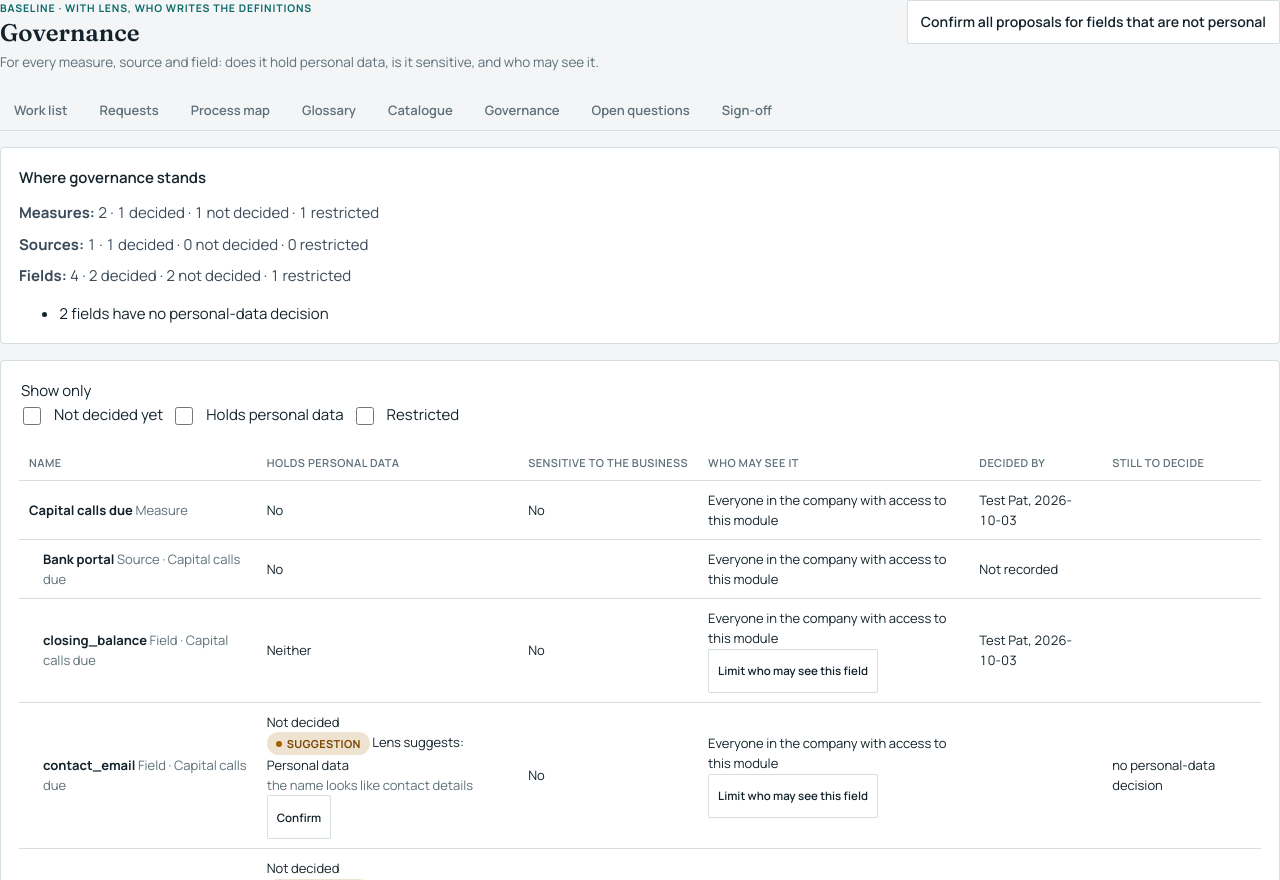
Test: the governance table › filters: not decided, personal data, restricted
Click the checkbox labelled "Not decided yet": {"x": 32, "y": 416} top-left (23, 407), bottom-right (41, 425)
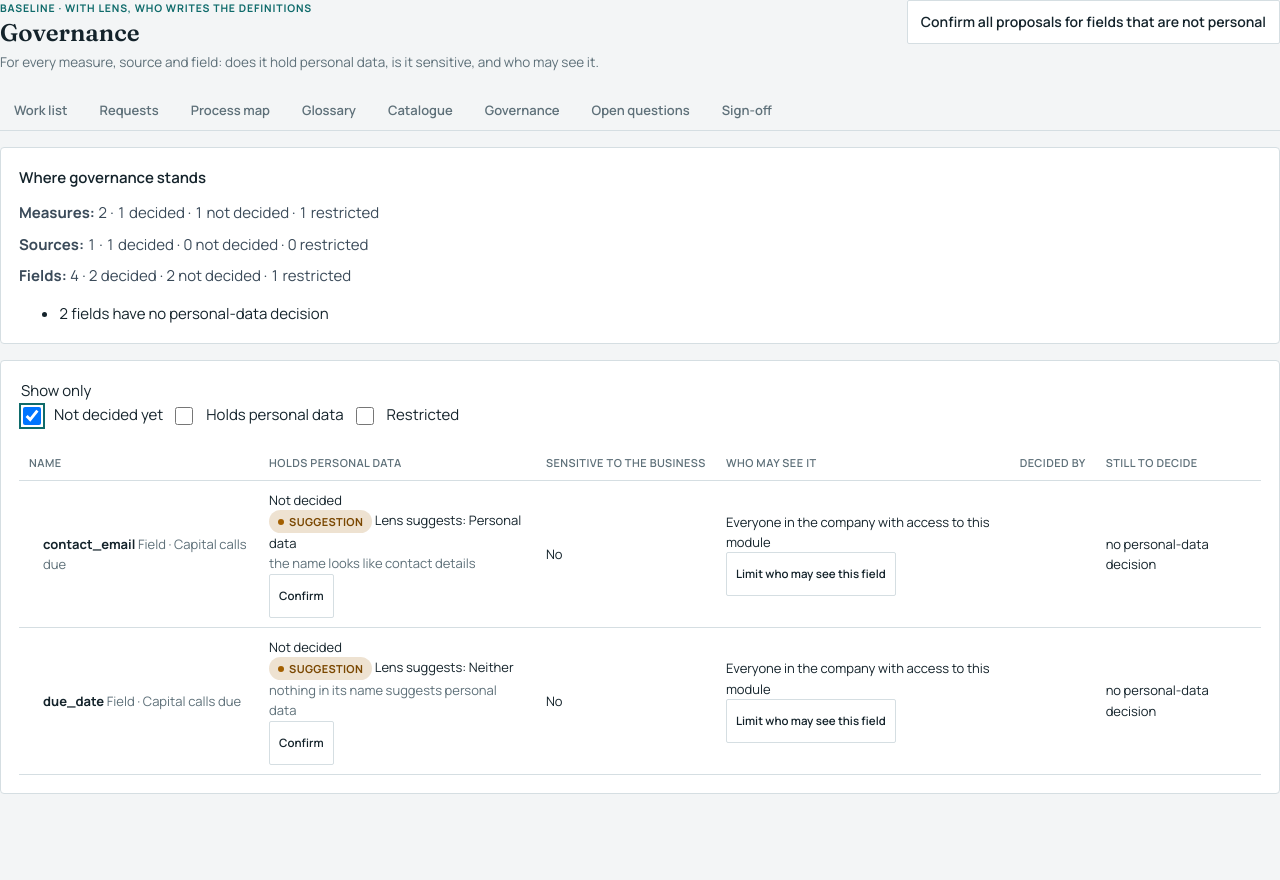
Expected: the text "contact_email" is shown, top-left (43, 534), bottom-right (135, 552)
Expected: the text "closing_balance" is gone
Click the checkbox labelled "Not decided yet": {"x": 32, "y": 416} top-left (23, 407), bottom-right (41, 425)
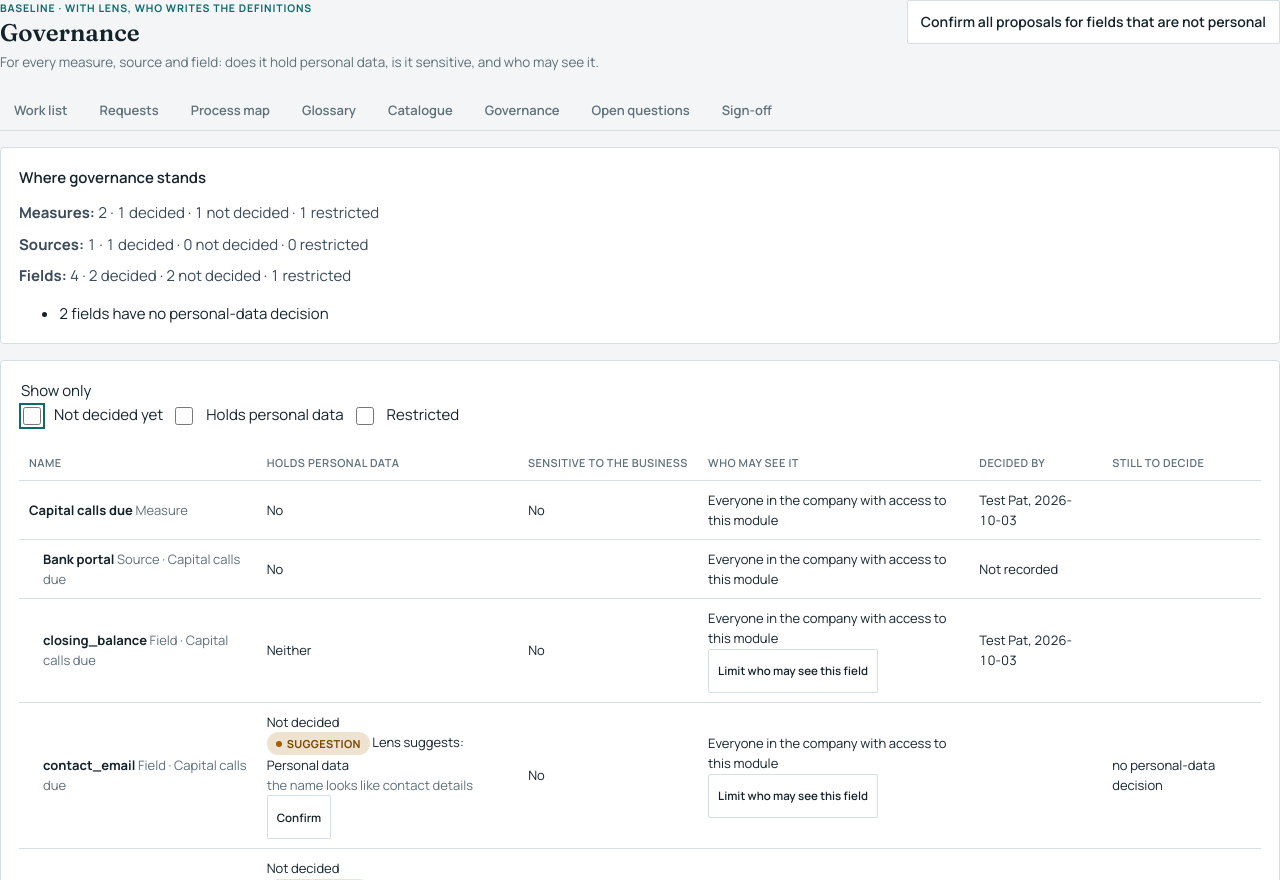
Click the checkbox labelled "Restricted": {"x": 364, "y": 416} top-left (356, 407), bottom-right (374, 425)
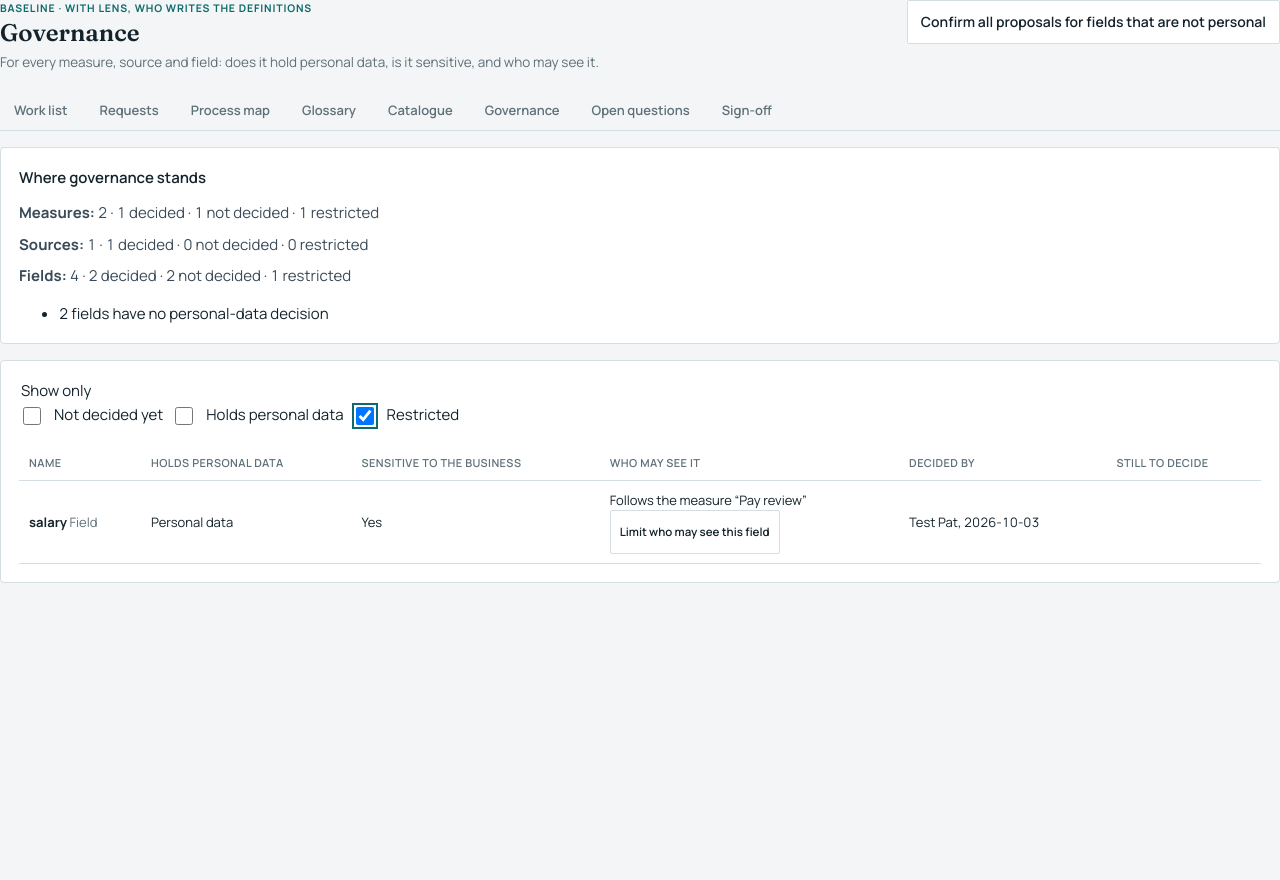
Expected: the text "salary" is shown, top-left (29, 513), bottom-right (67, 531)
Expected: the number of rows is 2, top-left (19, 445), bottom-right (1261, 480); top-left (19, 480), bottom-right (1261, 563)
Click the checkbox labelled "Restricted": {"x": 364, "y": 416} top-left (356, 407), bottom-right (374, 425)
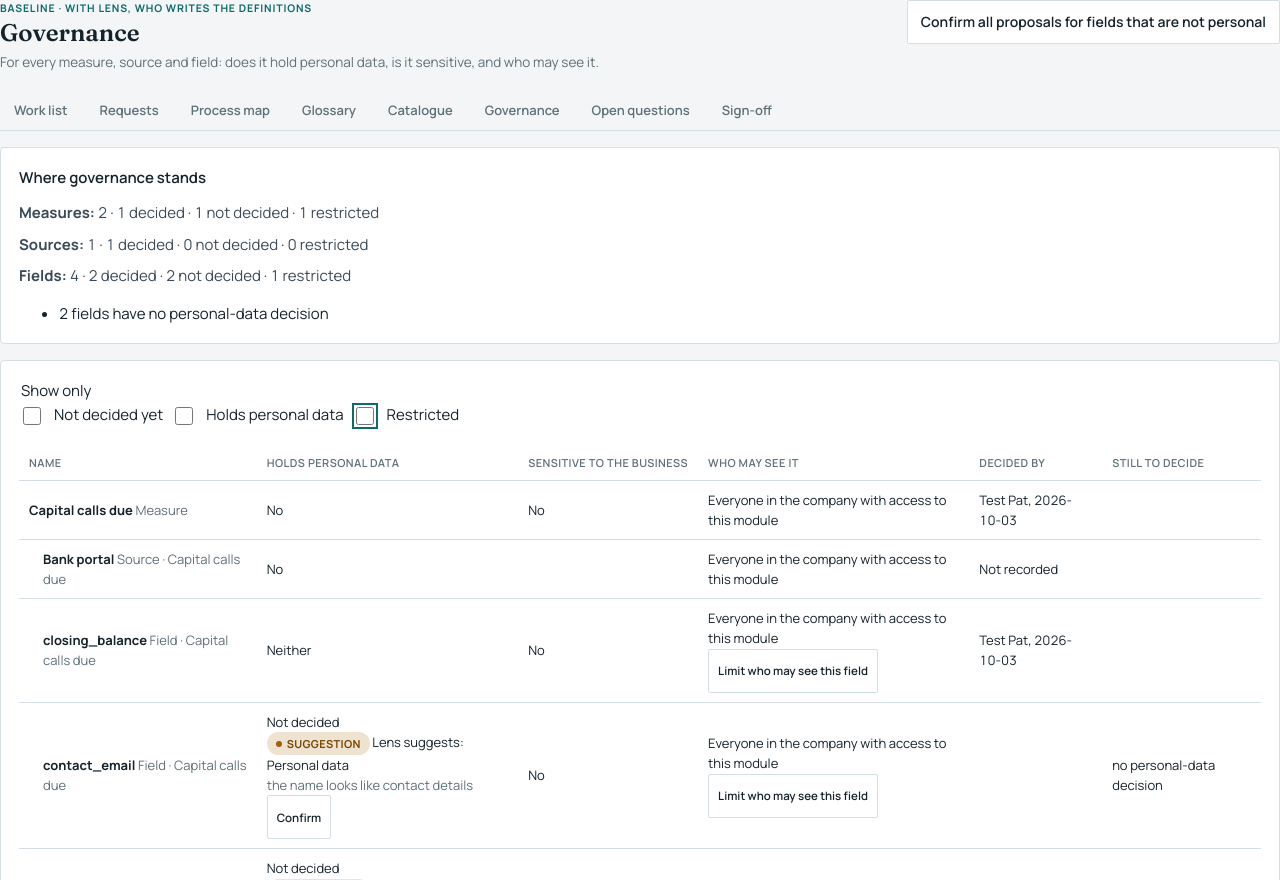
Click the checkbox labelled "Holds personal data": {"x": 184, "y": 416} top-left (175, 407), bottom-right (193, 425)
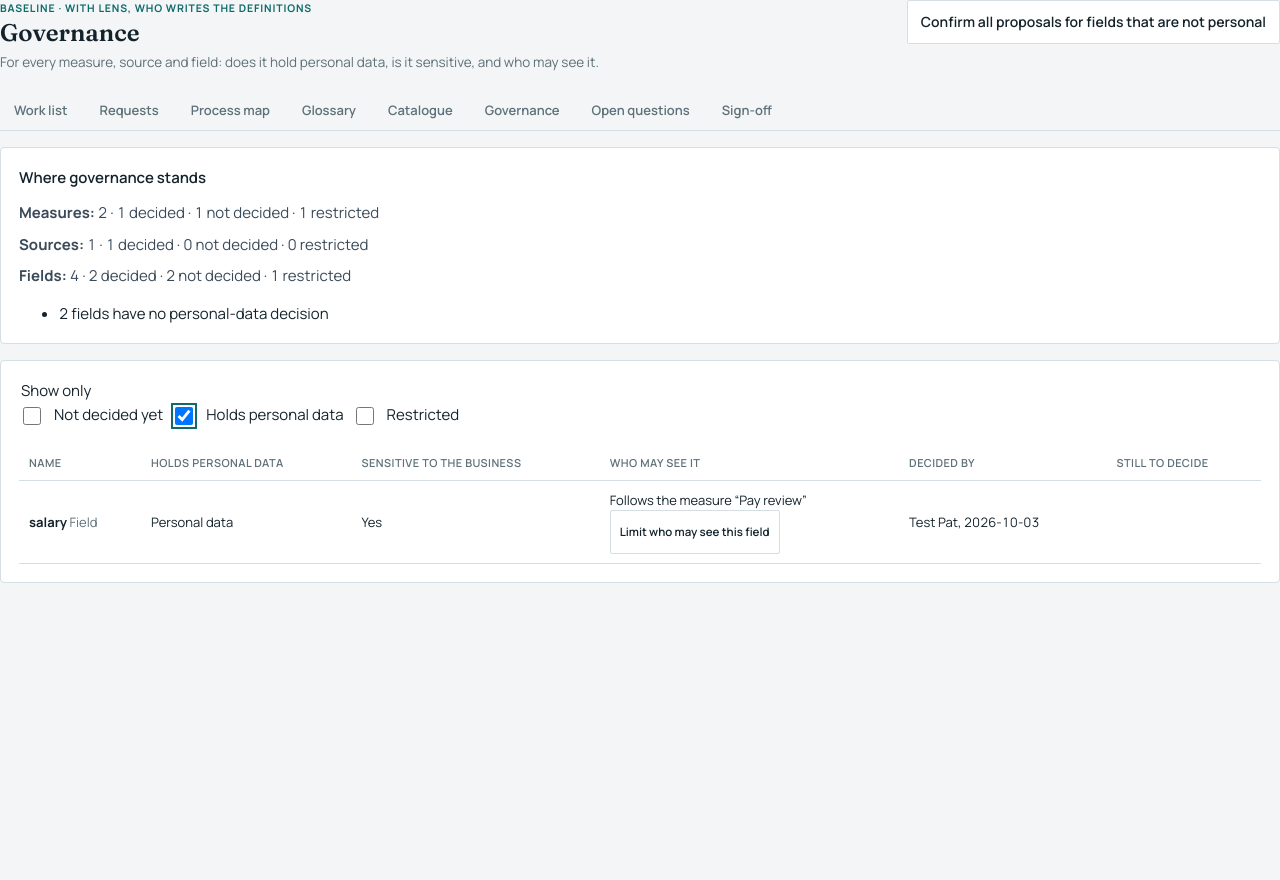
Expected: the text "salary" is shown, top-left (29, 513), bottom-right (67, 531)
Expected: the text "closing_balance" is gone
